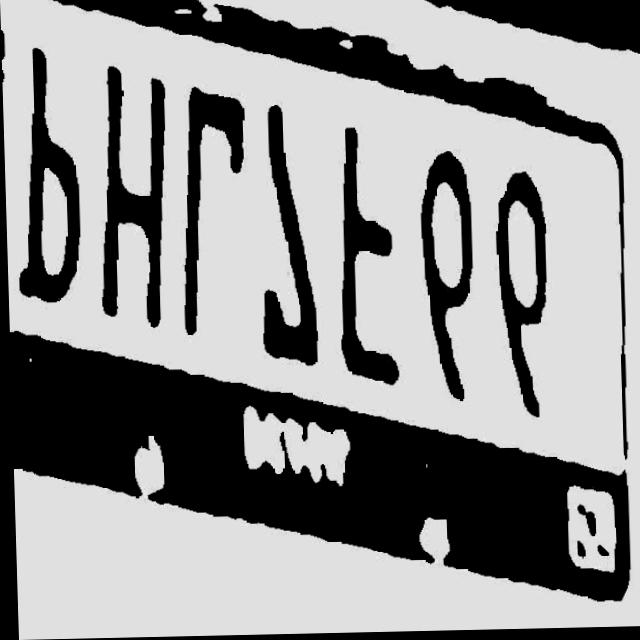6: (410, 148, 479, 407), (488, 174, 554, 427)
7: (251, 100, 320, 371)
f: (328, 127, 402, 390)
h: (93, 64, 173, 333)
l: (175, 85, 249, 340)
p: (10, 39, 84, 308)
